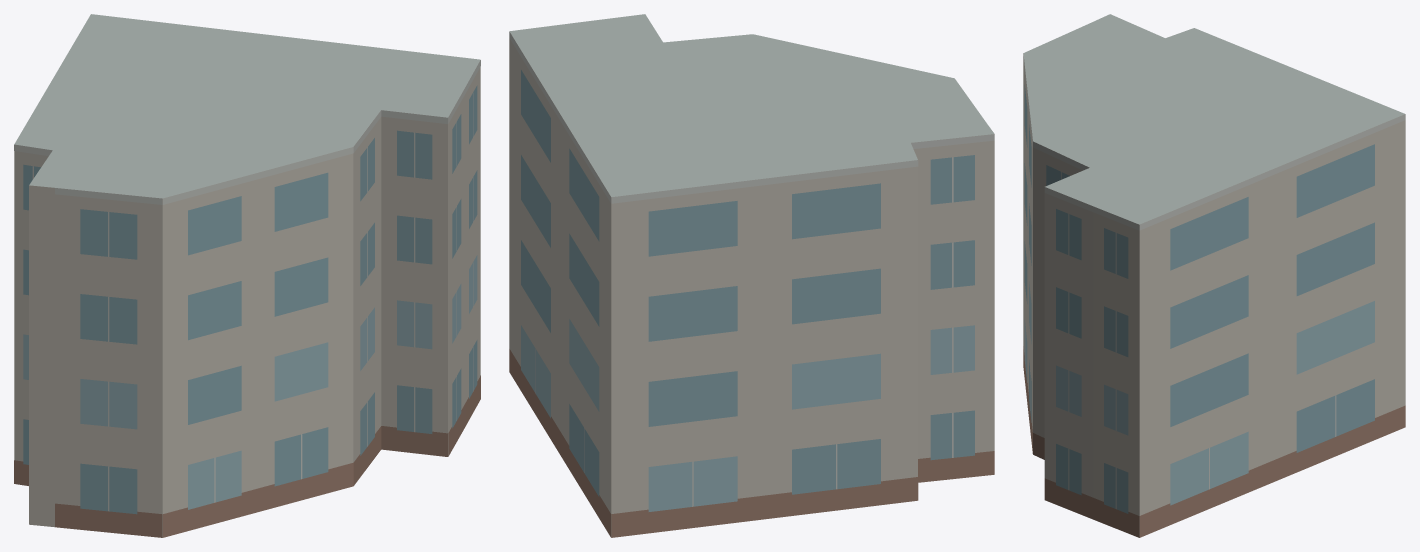
The model's file is survey-upis-32702502.glb.
The picture shows the model from 3 angles, left to right: view 1: azimuth 30°, elevation 25°; view 2: azimuth 150°, elevation 25°; view 3: azimuth 270°, elevation 25°; orthographic projection. The views are drawn at different scales.
Visible parts, largest first — view 1: survey-upis-32702502.tmp; view 2: survey-upis-32702502.tmp; view 3: survey-upis-32702502.tmp.
Part boxes in pixels (x1,y1,x2,y2): survey-upis-32702502.tmp: (14,14,480,537); survey-upis-32702502.tmp: (509,14,994,537); survey-upis-32702502.tmp: (1023,14,1405,537).
Size of the model in its own units: 18.32 by 12.7 by 14.05.
